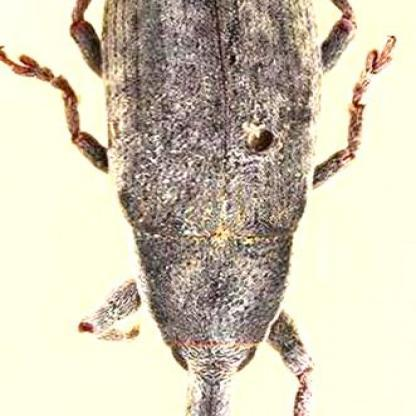rice-bug: (61, 0, 376, 416)
